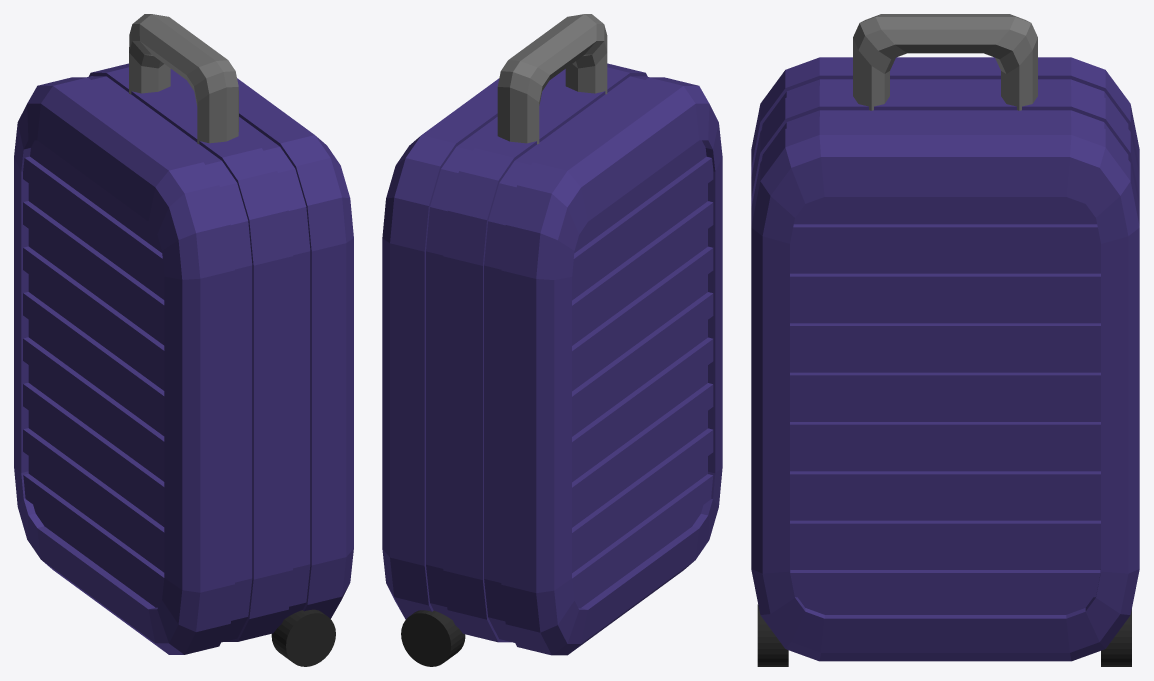
File: Luggage 2.fbx
3 renders of one model, left to right at view 1: azimuth 30°, elevation 25°; view 2: azimuth 150°, elevation 25°; view 3: azimuth 270°, elevation 25°, orthographic. The views are drawn at different scales.
Visible parts, largest first — view 1: Cube.001, Torus.001, Cylinder.001; view 2: Cube.001, Torus.001, Cylinder.002; view 3: Cube.001, Torus.001, Cylinder.001, Cylinder.002.
Part boxes in pixels (left/top/right/bottom): Cube.001: left=14, top=63, right=353, bottom=654; Torus.001: left=129, top=14, right=238, bottom=143; Cylinder.001: left=271, top=609, right=335, bottom=666; Cube.001: left=382, top=63, right=722, bottom=655; Torus.001: left=497, top=14, right=607, bottom=144; Cylinder.002: left=401, top=610, right=465, bottom=666; Cube.001: left=751, top=57, right=1139, bottom=661; Torus.001: left=853, top=14, right=1037, bottom=110; Cylinder.001: left=757, top=604, right=788, bottom=666; Cylinder.002: left=1101, top=609, right=1131, bottom=666.
Size of the model in its own units: 78.82 by 238 by 134.
